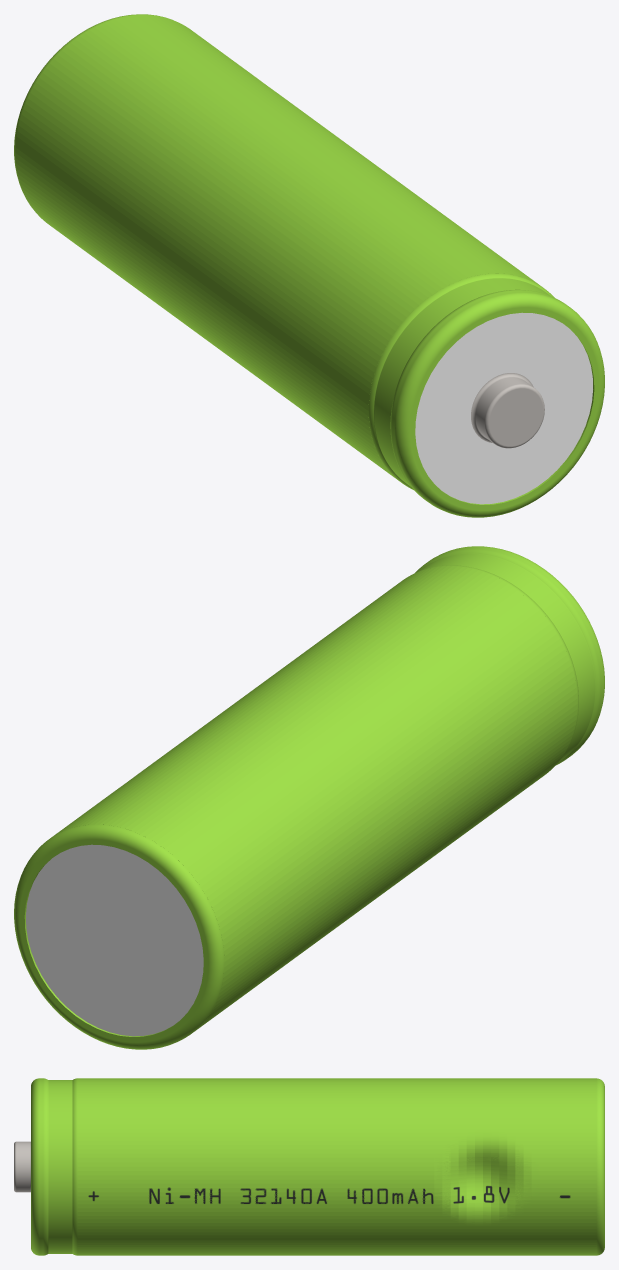
File: defect_2.glb
The picture shows the model from 3 angles, top to bottom: view 1: azimuth 30°, elevation 25°; view 2: azimuth 150°, elevation 25°; view 3: azimuth 270°, elevation 25°; orthographic projection. The views are drawn at different scales.
Parts seen in each view (by area): view 1: Cylinder, Cell_Top; view 2: Cylinder, Cell_bottom, Cell_Top; view 3: Cylinder, Cell_Top, Cell_bottom.
Part boxes in pixels (<box>): Cylinder: <box>15,15,550,480</box>; Cell_Top: <box>368,273,604,517</box>; Cylinder: <box>41,566,577,1031</box>; Cell_bottom: <box>14,824,224,1049</box>; Cell_Top: <box>415,546,604,765</box>; Cylinder: <box>77,1078,596,1255</box>; Cell_Top: <box>14,1078,77,1255</box>; Cell_bottom: <box>596,1078,604,1255</box>.
Size of the model in its own units: 0.021 by 0.021 by 0.07.
10 materials, 1 textured.
